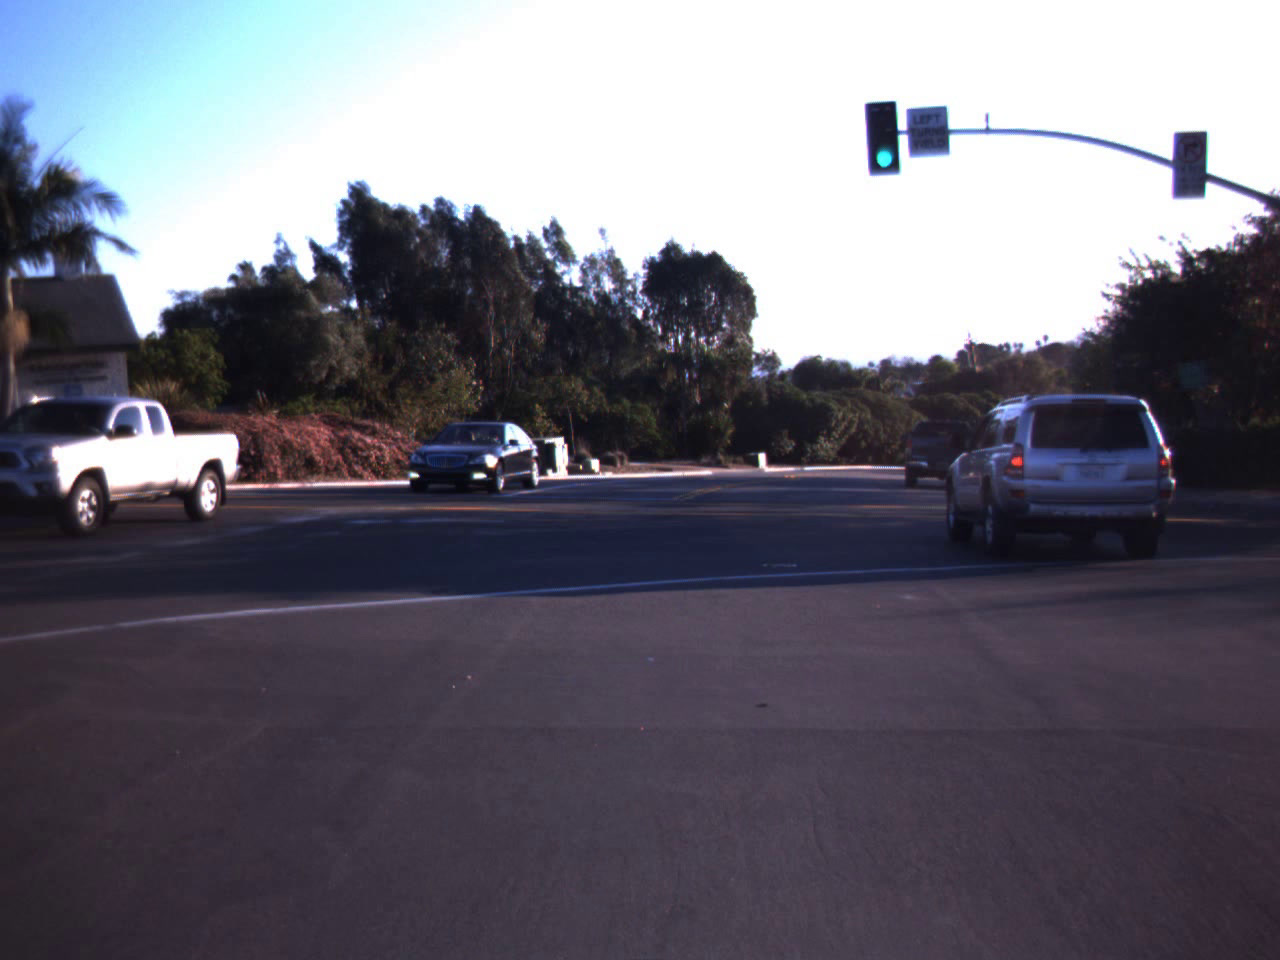go: (865, 103, 904, 173)
